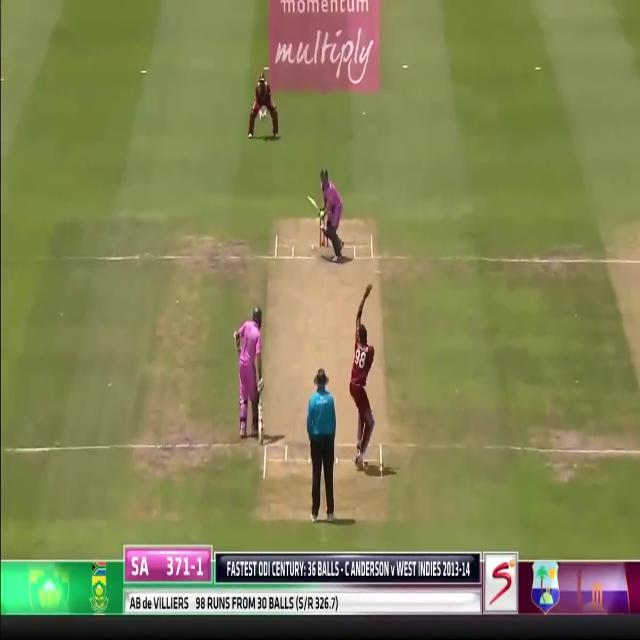Ball: (236, 304, 264, 442), (316, 167, 345, 261)
Fielder: (349, 330, 376, 466), (249, 74, 277, 138)
Umpire: (307, 367, 337, 524)
